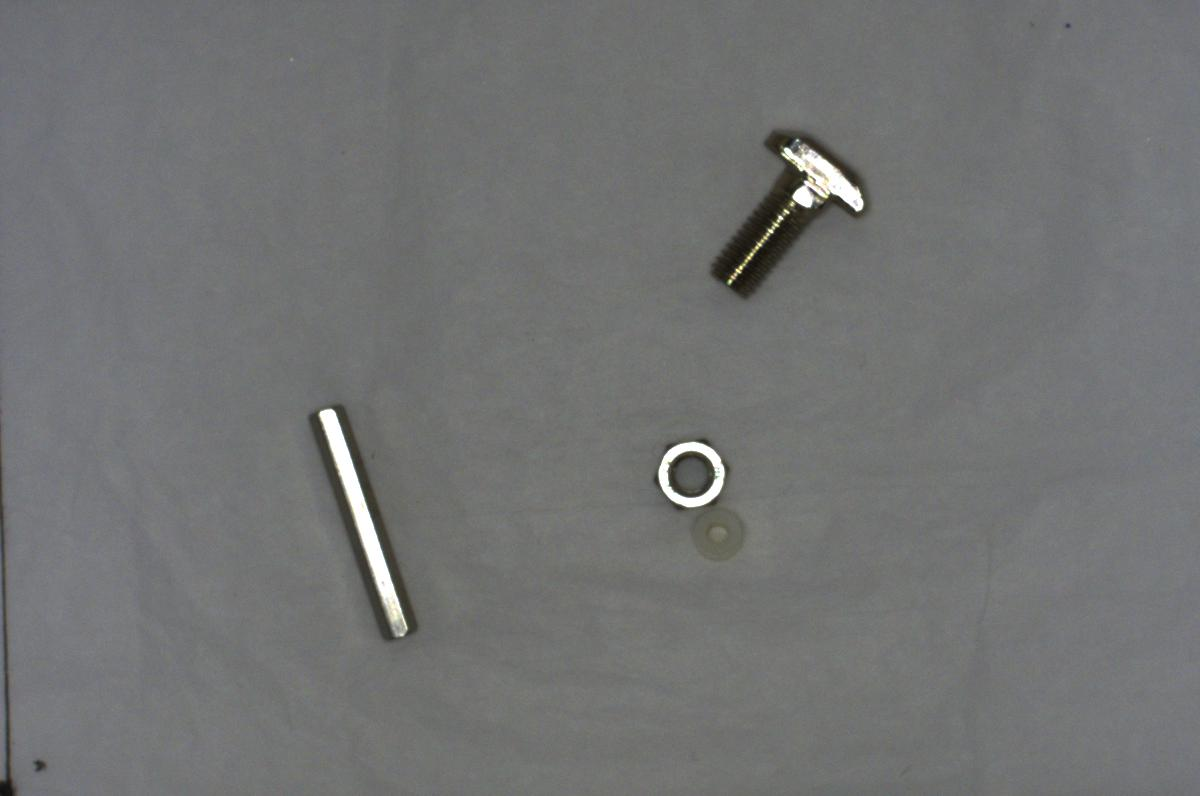Double hexagonal column: (300, 389, 417, 662)
Hexagon nut: (650, 434, 734, 513)
Plastic cushion pillar: (691, 505, 753, 567)
T-shaped screw: (692, 123, 887, 303)
